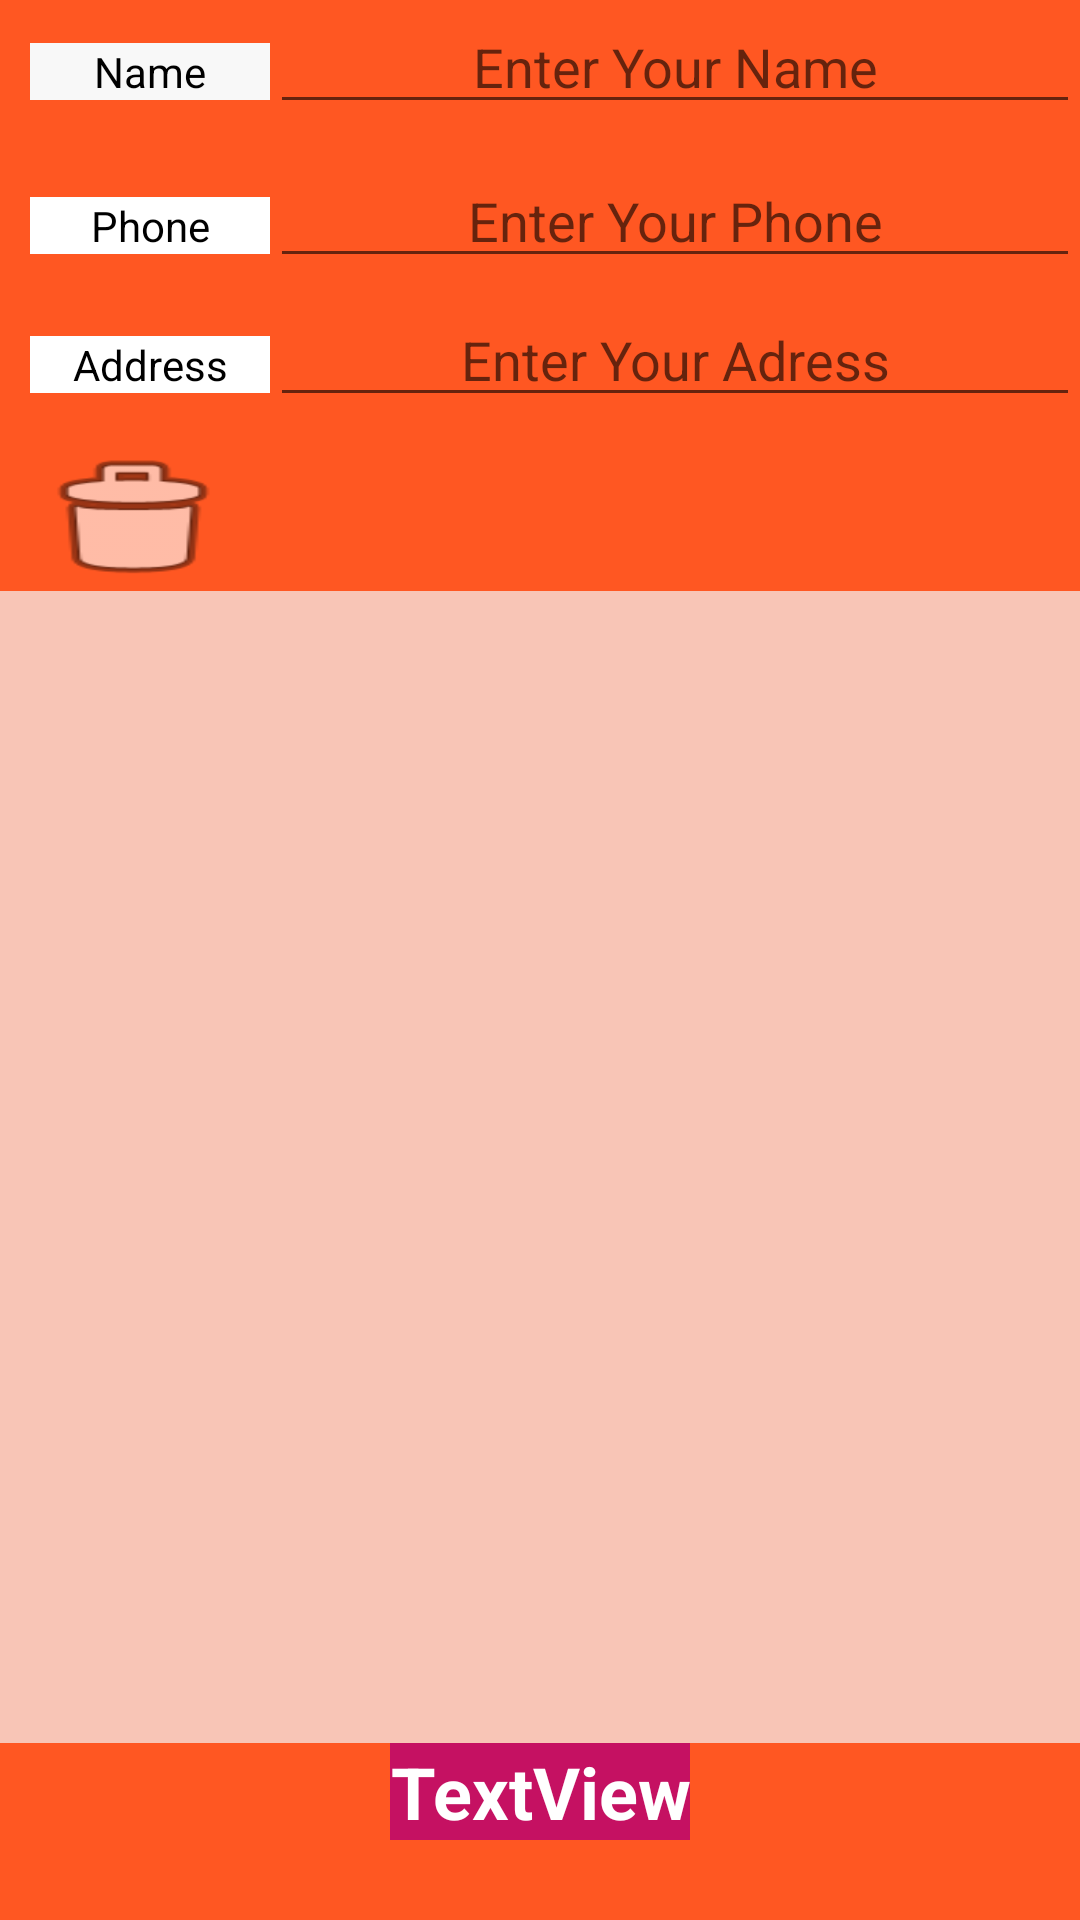

Screen size 1080*1920. Icon name, then its box in pixels as [left=x1, top=y1, right=x2, bottom=y2]:
delete: [left=58, top=460, right=208, bottom=573]
